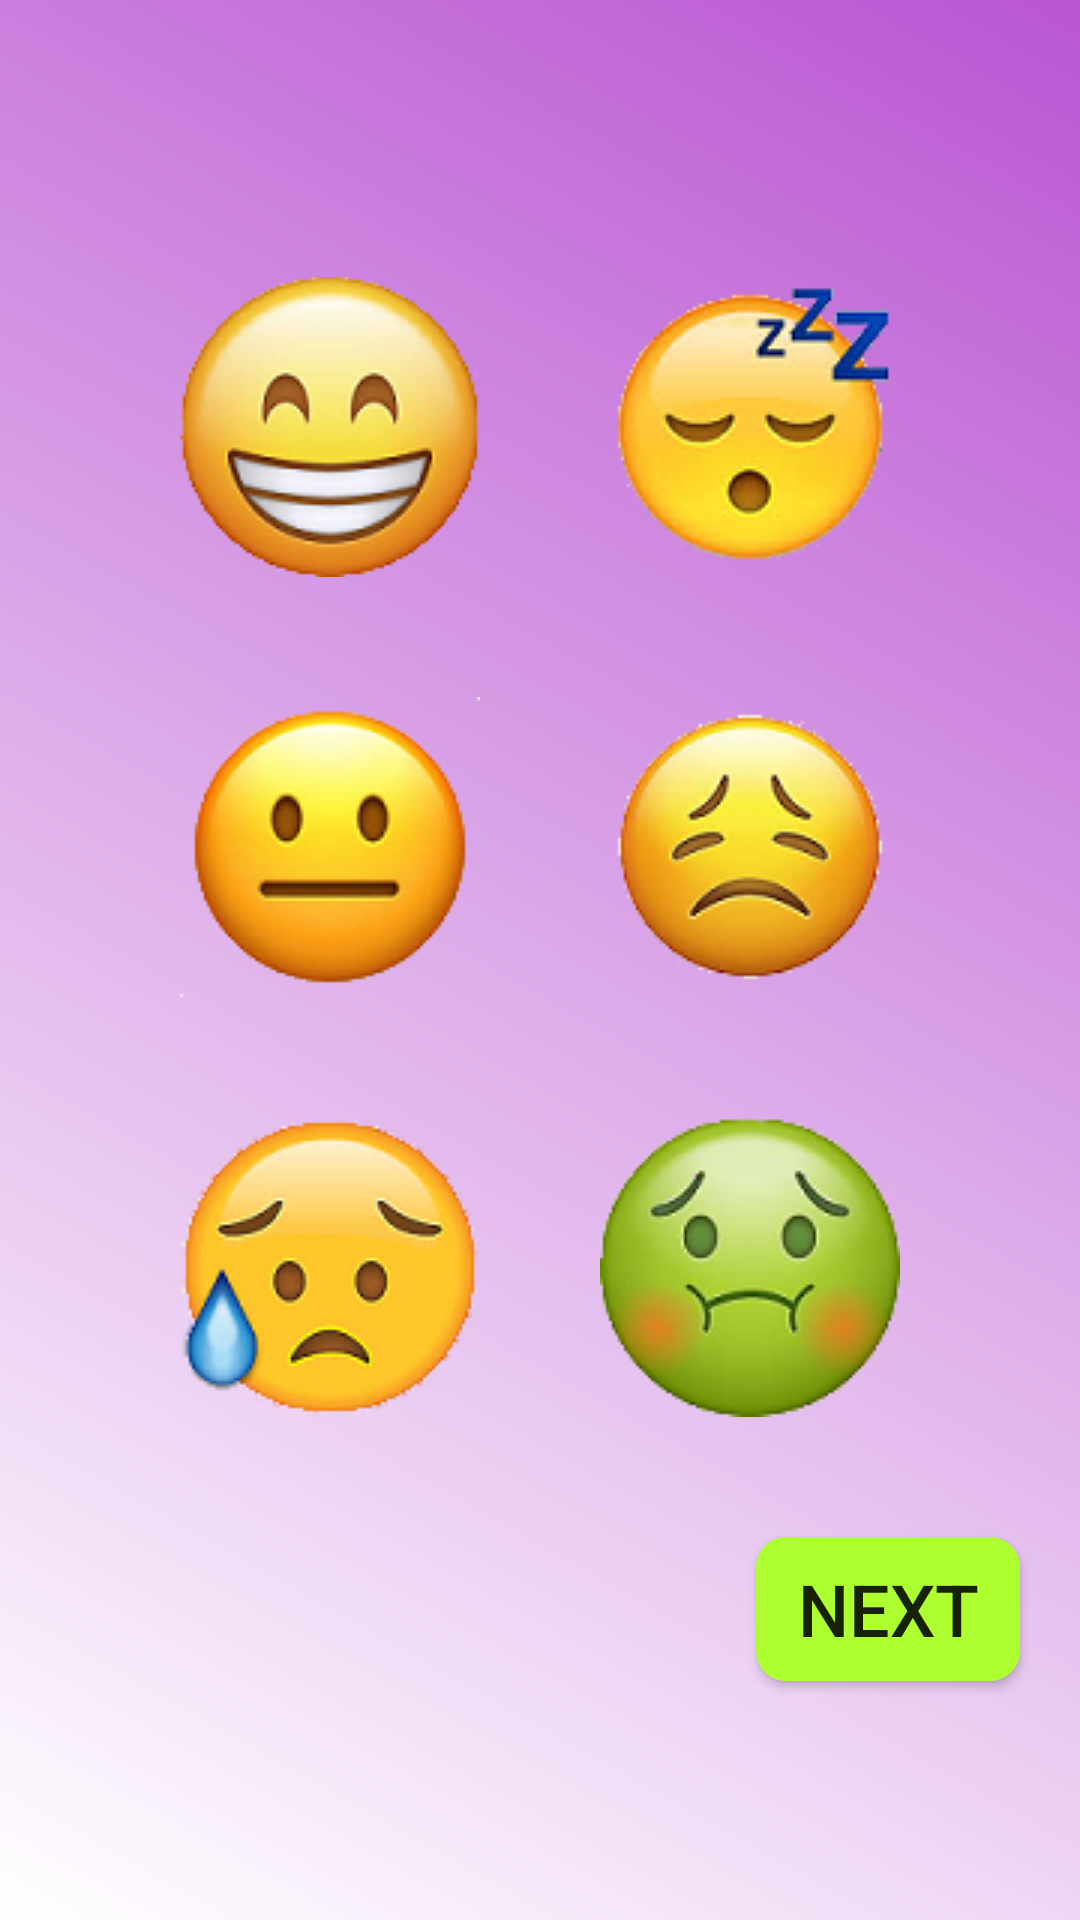

Icons on this 1080w x 1920h Android screen, each with the point to tap as (x=x, y=y):
anxious: (x=329, y=1267)
depressed: (x=750, y=847)
fatigued: (x=753, y=424)
happy: (x=330, y=427)
meh: (x=323, y=854)
nausea: (x=750, y=1267)
